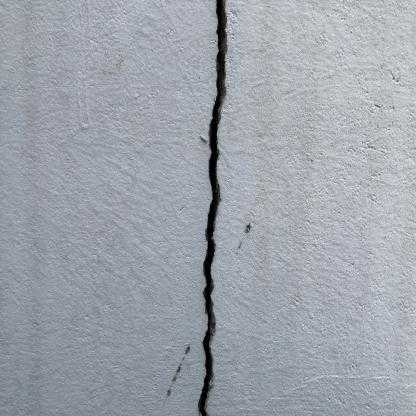crack: (192, 4, 231, 416)
